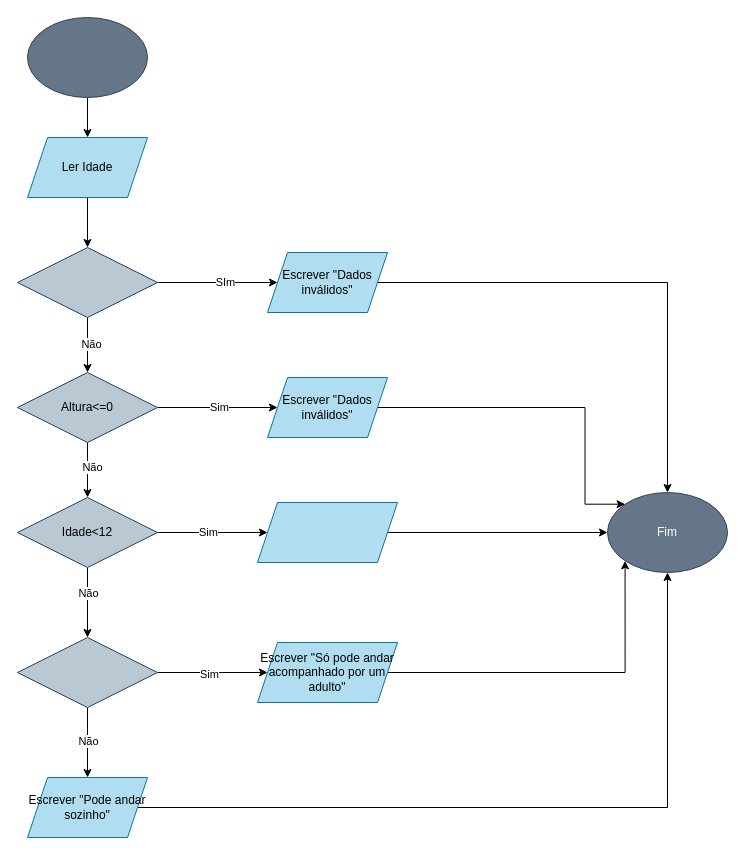
The diagram is 745 pixels wide and 855 high, and some of its shapes have lost their labels. The shapes that lost their labels are listed below. From the top down, each one's centre as x and y in pixels, then its label:
the point at 87,57: Início
the point at 87,282: Idade<=0
the point at 327,532: Escrever "Não pode andar na atração"
the point at 87,672: Altura<140
